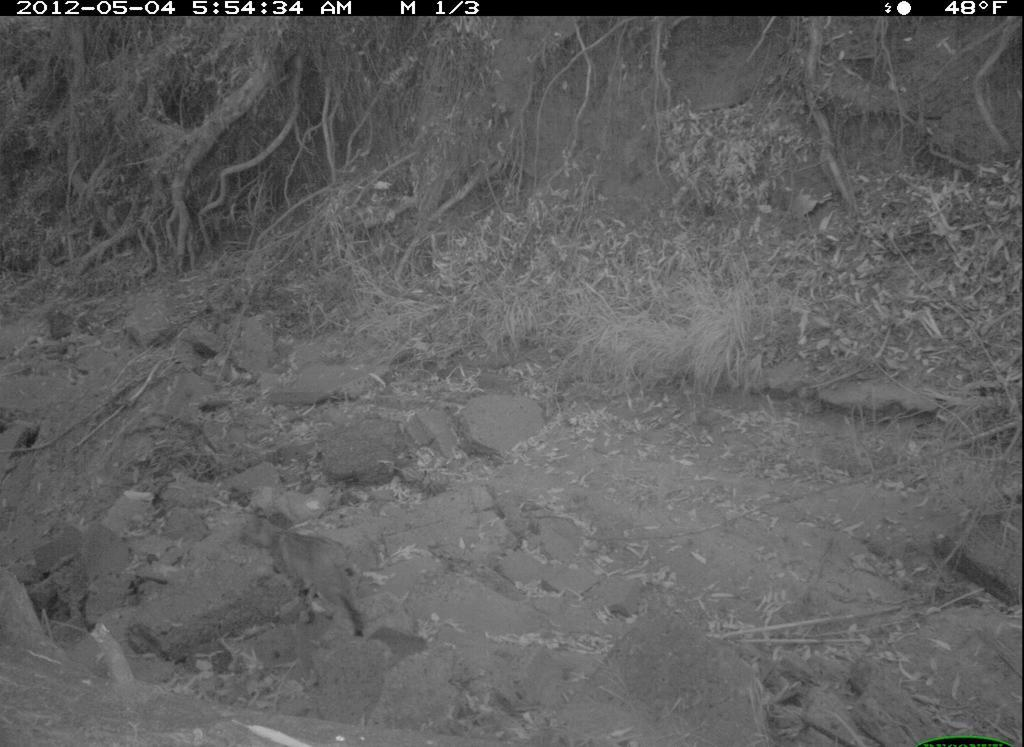bobcat: (228, 479, 393, 655)
